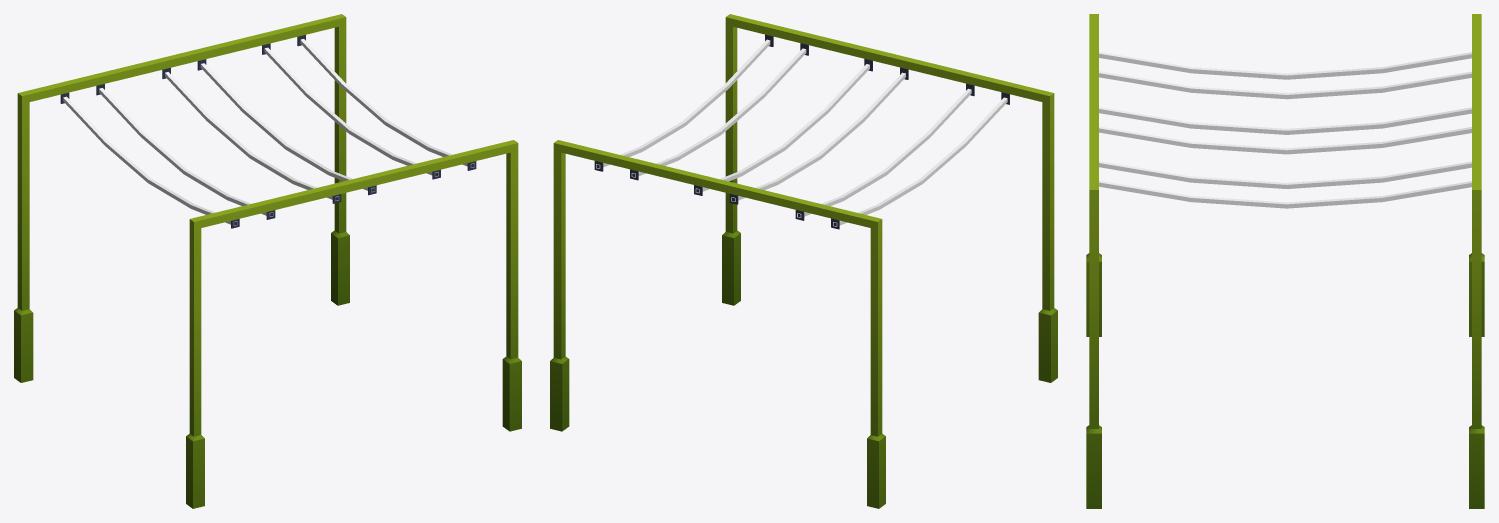
File: daydien.fbx
3 views of the same model, side by side, from view 1: azimuth 30°, elevation 25°; view 2: azimuth 150°, elevation 25°; view 3: azimuth 270°, elevation 25° (orthographic). The views are drawn at different scales.
Visible parts, largest first — view 1: polySurface152; view 2: polySurface152; view 3: polySurface152.
Part boxes in pixels (x1=…): polySurface152: x1=14, y1=14, x2=521, y2=508; polySurface152: x1=550, y1=14, x2=1057, y2=508; polySurface152: x1=1086, y1=14, x2=1484, y2=508.
Size of the model in its own units: 27.12 by 22.48 by 25.56.
